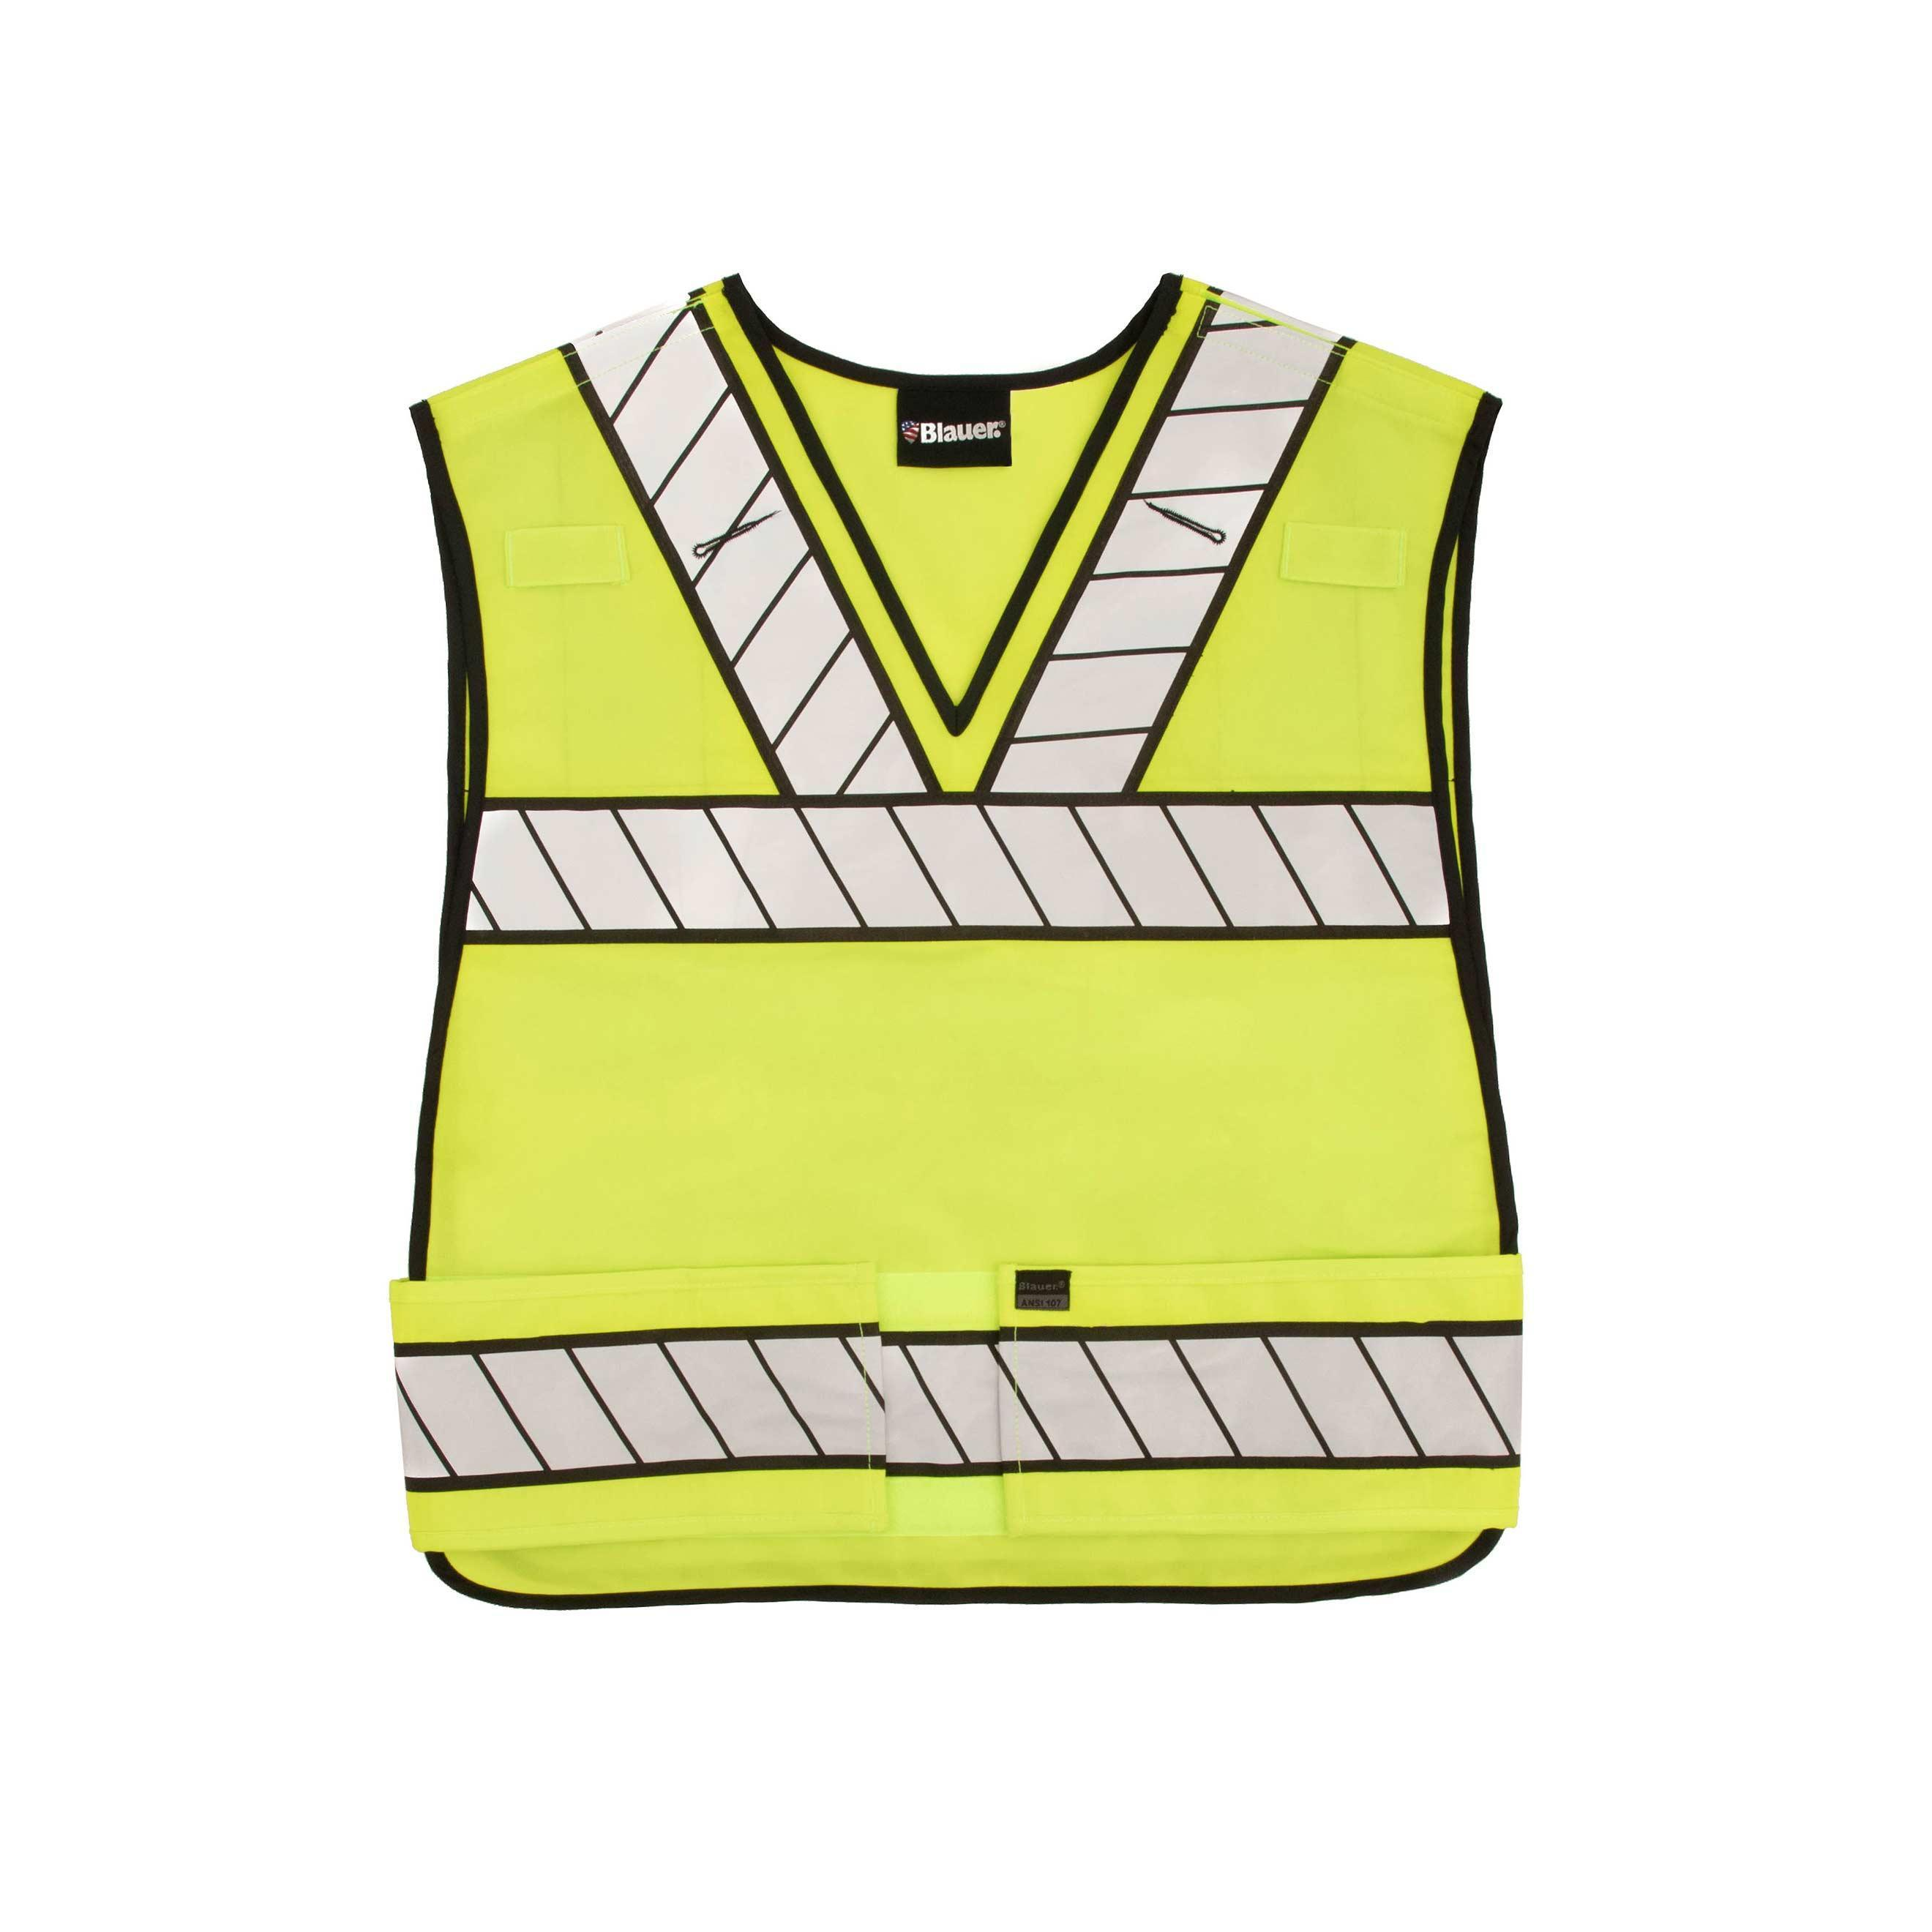vest: (398, 253, 1527, 1606)
